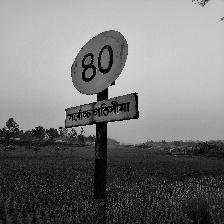Speed-limit: (66, 29, 138, 129)
